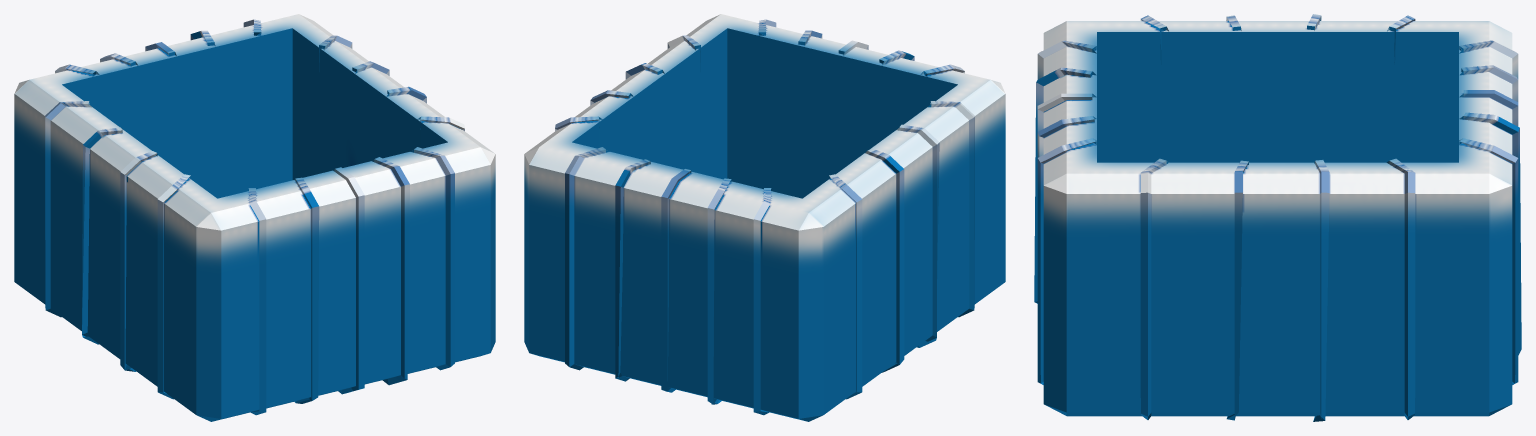
File: SortBox.fbx
3 views of the same model, side by side, from view 1: azimuth 30°, elevation 25°; view 2: azimuth 150°, elevation 25°; view 3: azimuth 270°, elevation 25° (orthographic). The views are drawn at different scales.
Parts seen in each view (by area): view 1: SortingBin; view 2: SortingBin; view 3: SortingBin.
Boxes of the visible parts, x1=… form: SortingBin: x1=14, y1=14, x2=495, y2=421; SortingBin: x1=524, y1=14, x2=1005, y2=421; SortingBin: x1=1034, y1=14, x2=1521, y2=421.
Size of the model in its own units: 651 by 433 by 759.
1 material, 1 textured.
